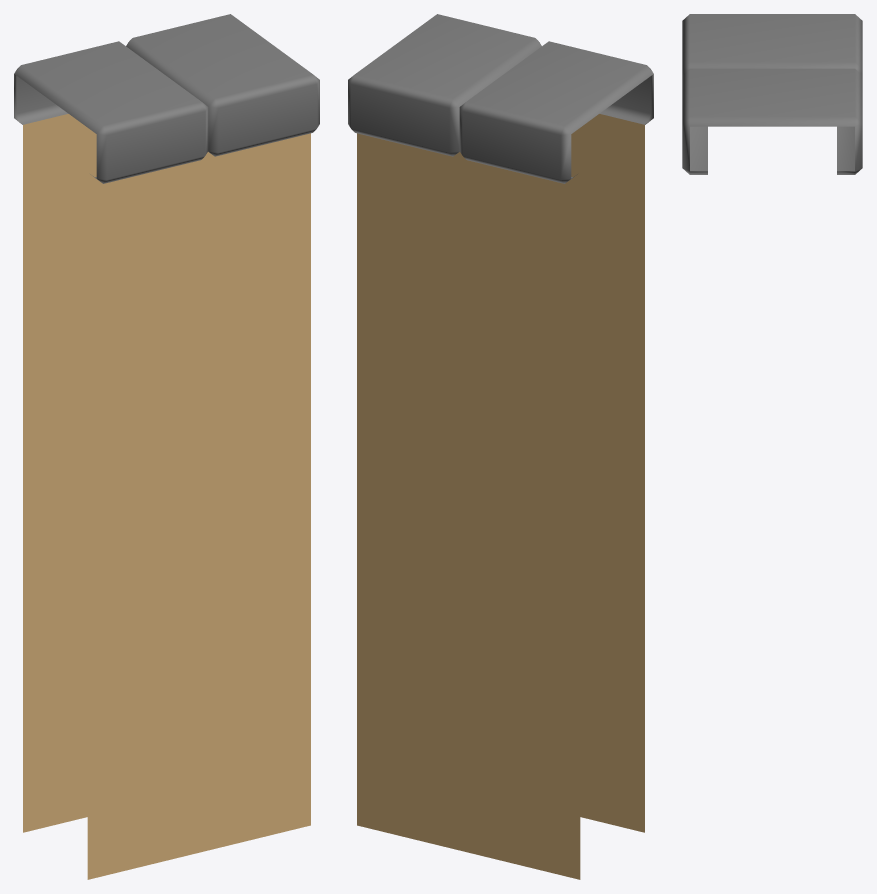
File: SM_WallB_2x6_LOD0.fbx
The picture shows the model from 3 angles, left to right: view 1: azimuth 30°, elevation 25°; view 2: azimuth 150°, elevation 25°; view 3: azimuth 270°, elevation 25°; orthographic projection.
Parts seen in each view (by area): view 1: SM_WallB_2x6_LOD0; view 2: SM_WallB_2x6_LOD0; view 3: SM_WallB_2x6_LOD0.
Part boxes in pixels (x1,y1,x2,y2): SM_WallB_2x6_LOD0: [14, 14, 319, 879]; SM_WallB_2x6_LOD0: [348, 14, 653, 879]; SM_WallB_2x6_LOD0: [682, 14, 862, 174].
Bounding box in the file's own units: 2 × 6.5 × 1.4.
